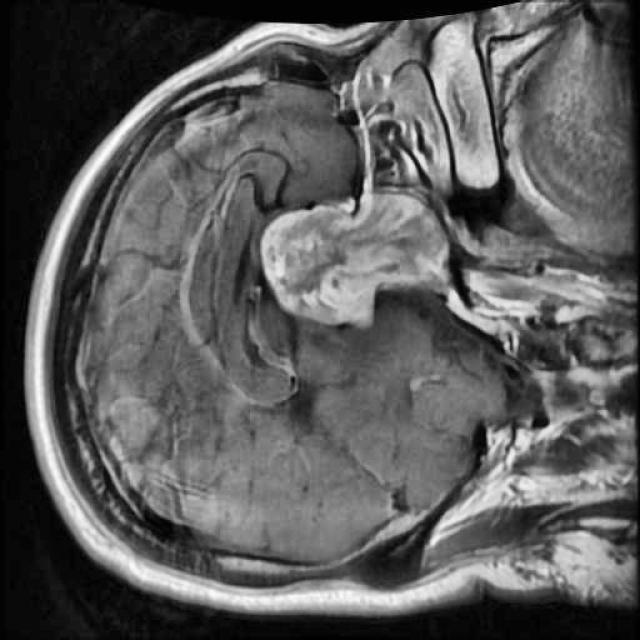Tumor: (252, 179, 460, 336)
